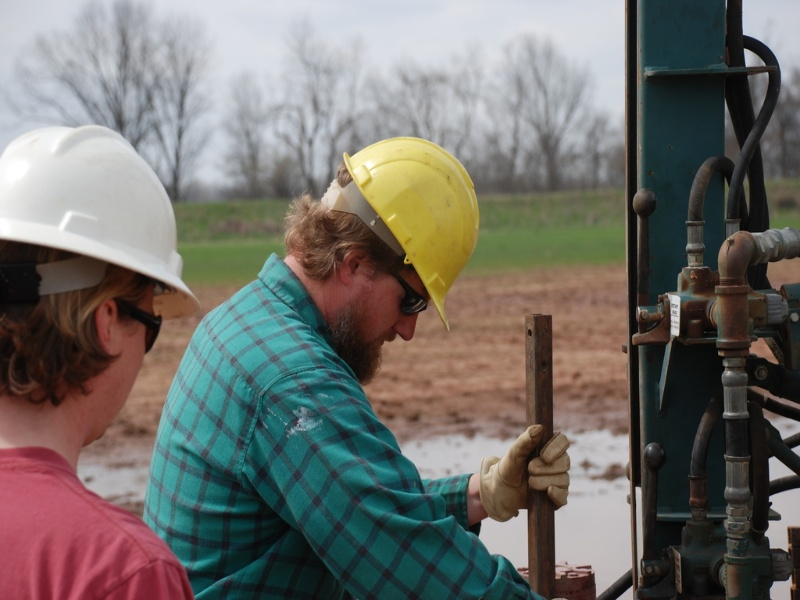Baret: (1, 125, 201, 318), (343, 136, 483, 324)
